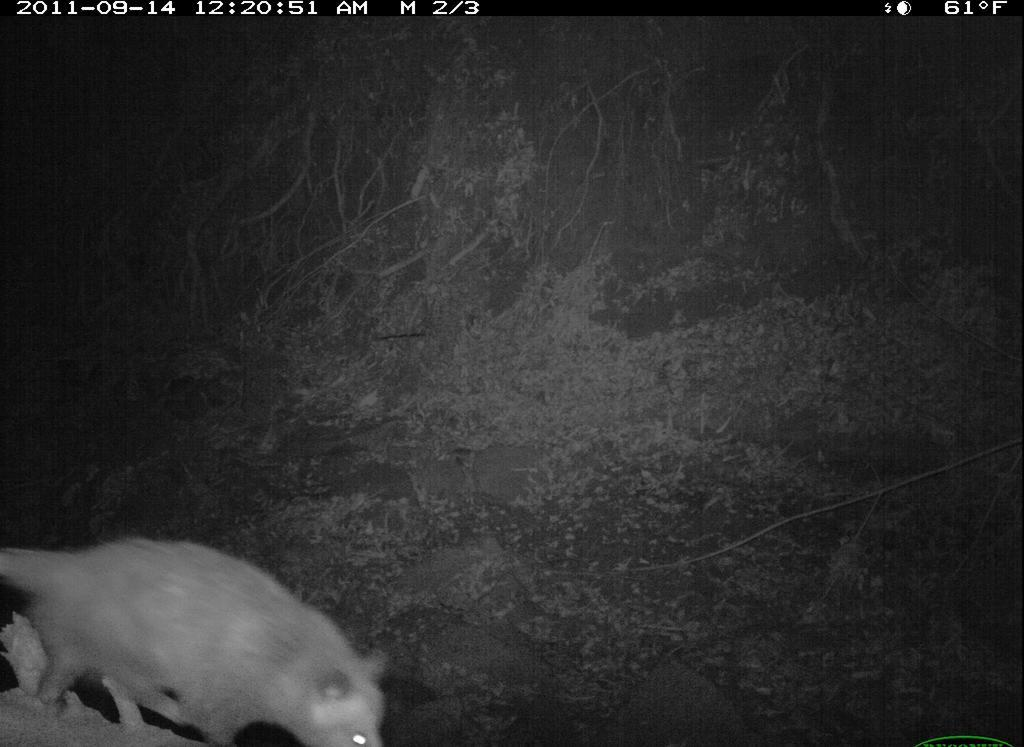opossum: (1, 532, 401, 747)
